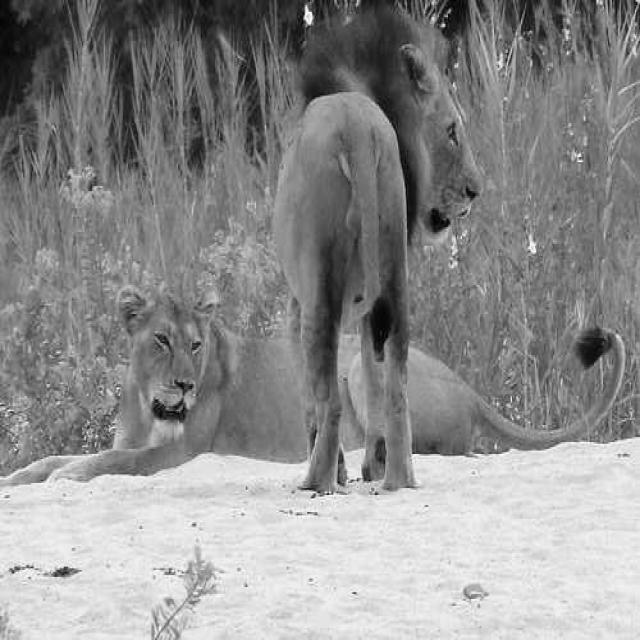Lion: (302, 56, 510, 310), (104, 273, 228, 447)
